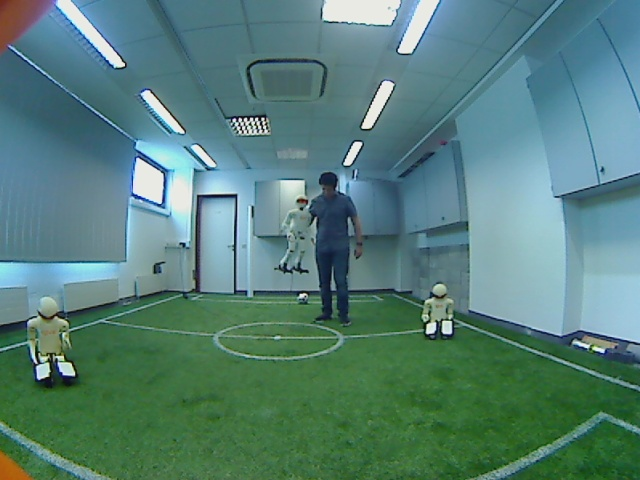ball: (293, 288, 314, 309)
robot: (19, 291, 88, 387), (273, 194, 315, 280), (414, 280, 462, 346)
